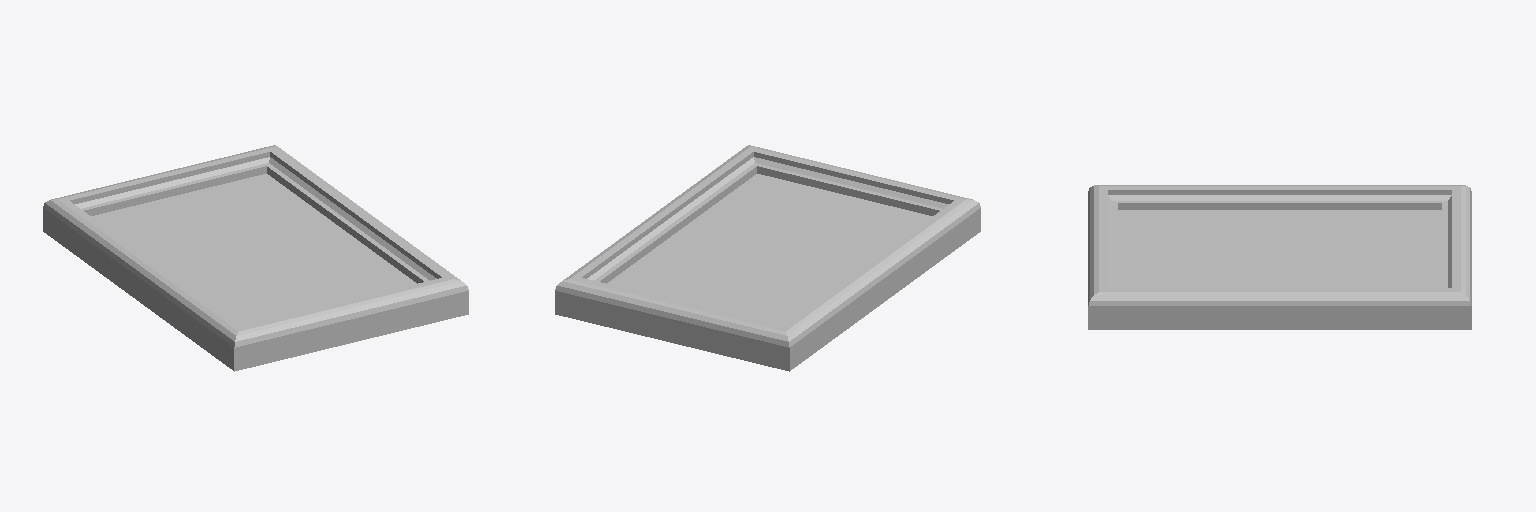
The model's file is painting.obj.
3 renders of one model, left to right at view 1: azimuth 30°, elevation 25°; view 2: azimuth 150°, elevation 25°; view 3: azimuth 270°, elevation 25°, orthographic.
Visible parts, largest first — view 1: Cube; view 2: Cube; view 3: Cube.
Boxes of the visible parts, <box> form: Cube: <box>43,145,468,371</box>; Cube: <box>555,145,980,371</box>; Cube: <box>1088,185,1471,329</box>.
Size of the model in its own units: 0.21 by 0.0288 by 0.297.